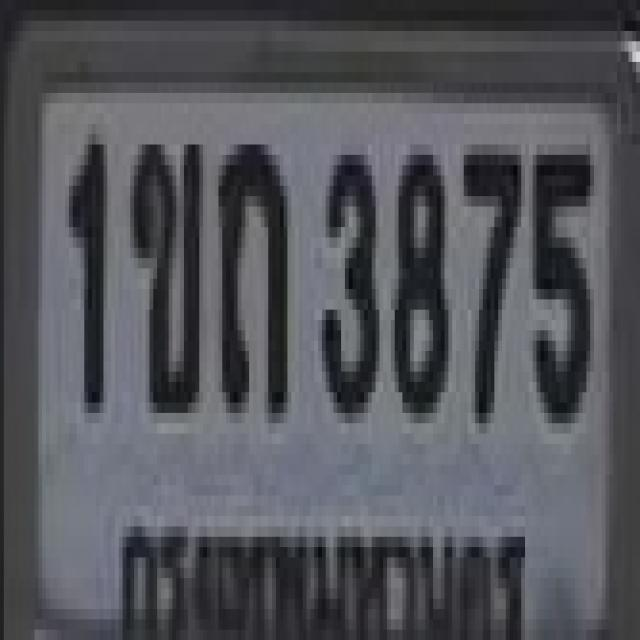1: (65, 124, 104, 402)
3: (318, 144, 376, 413)
5: (529, 144, 590, 413)
7: (460, 134, 517, 413)
8: (391, 144, 444, 402)
A02: (126, 134, 200, 403)
A22: (214, 134, 284, 413)
BKK: (112, 504, 535, 640)
